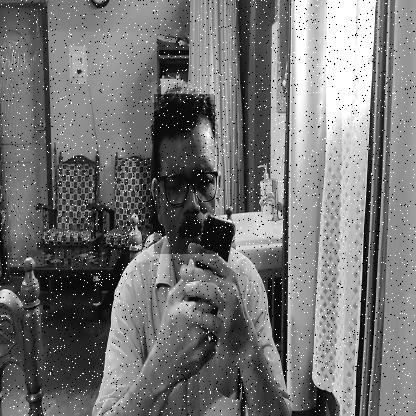Normal: (154, 94, 215, 254)
